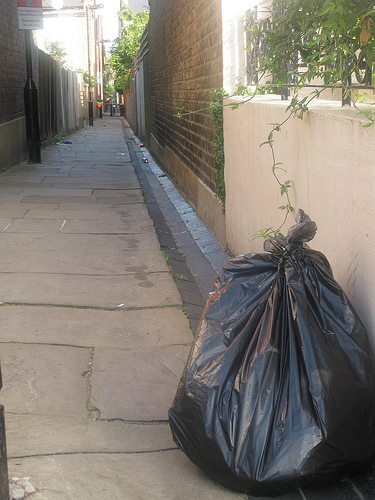litter: (164, 208, 375, 497), (57, 138, 72, 145), (139, 143, 153, 150), (141, 155, 149, 163)
